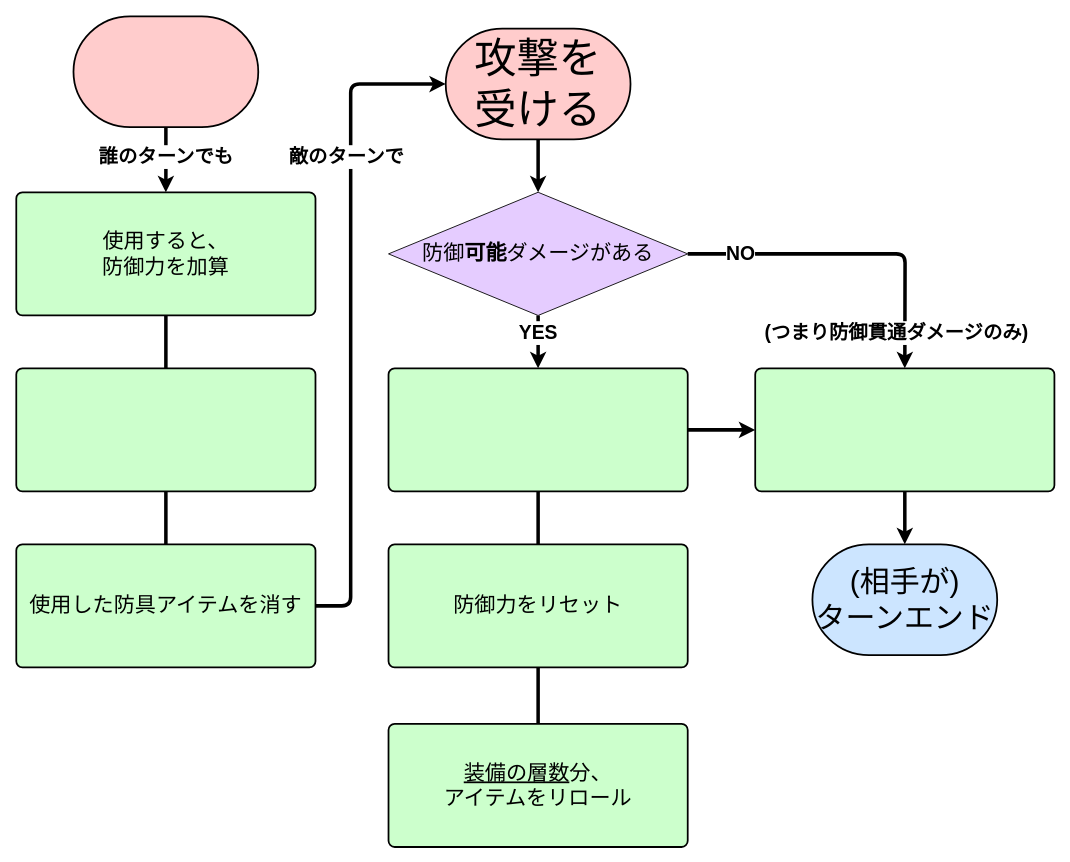
Image size: 1070x862. Some labels were removed from this diagram. Each missing label, with the centre of its shape:
(防御可能)ダメージを 防御力で軽減: the point at 537,429
ダメージを受ける: the point at 904,429
装備の層数 を+1: the point at 165,429
防具 ゲット: the point at 165,71
